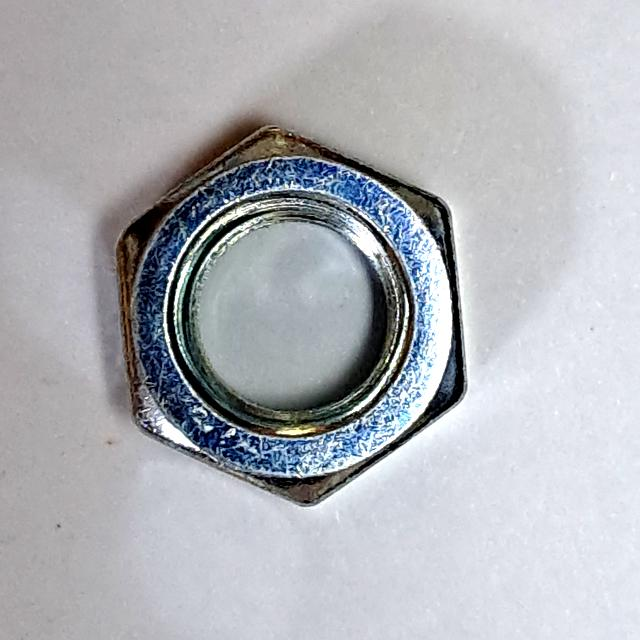Excellent: (104, 107, 485, 521)
